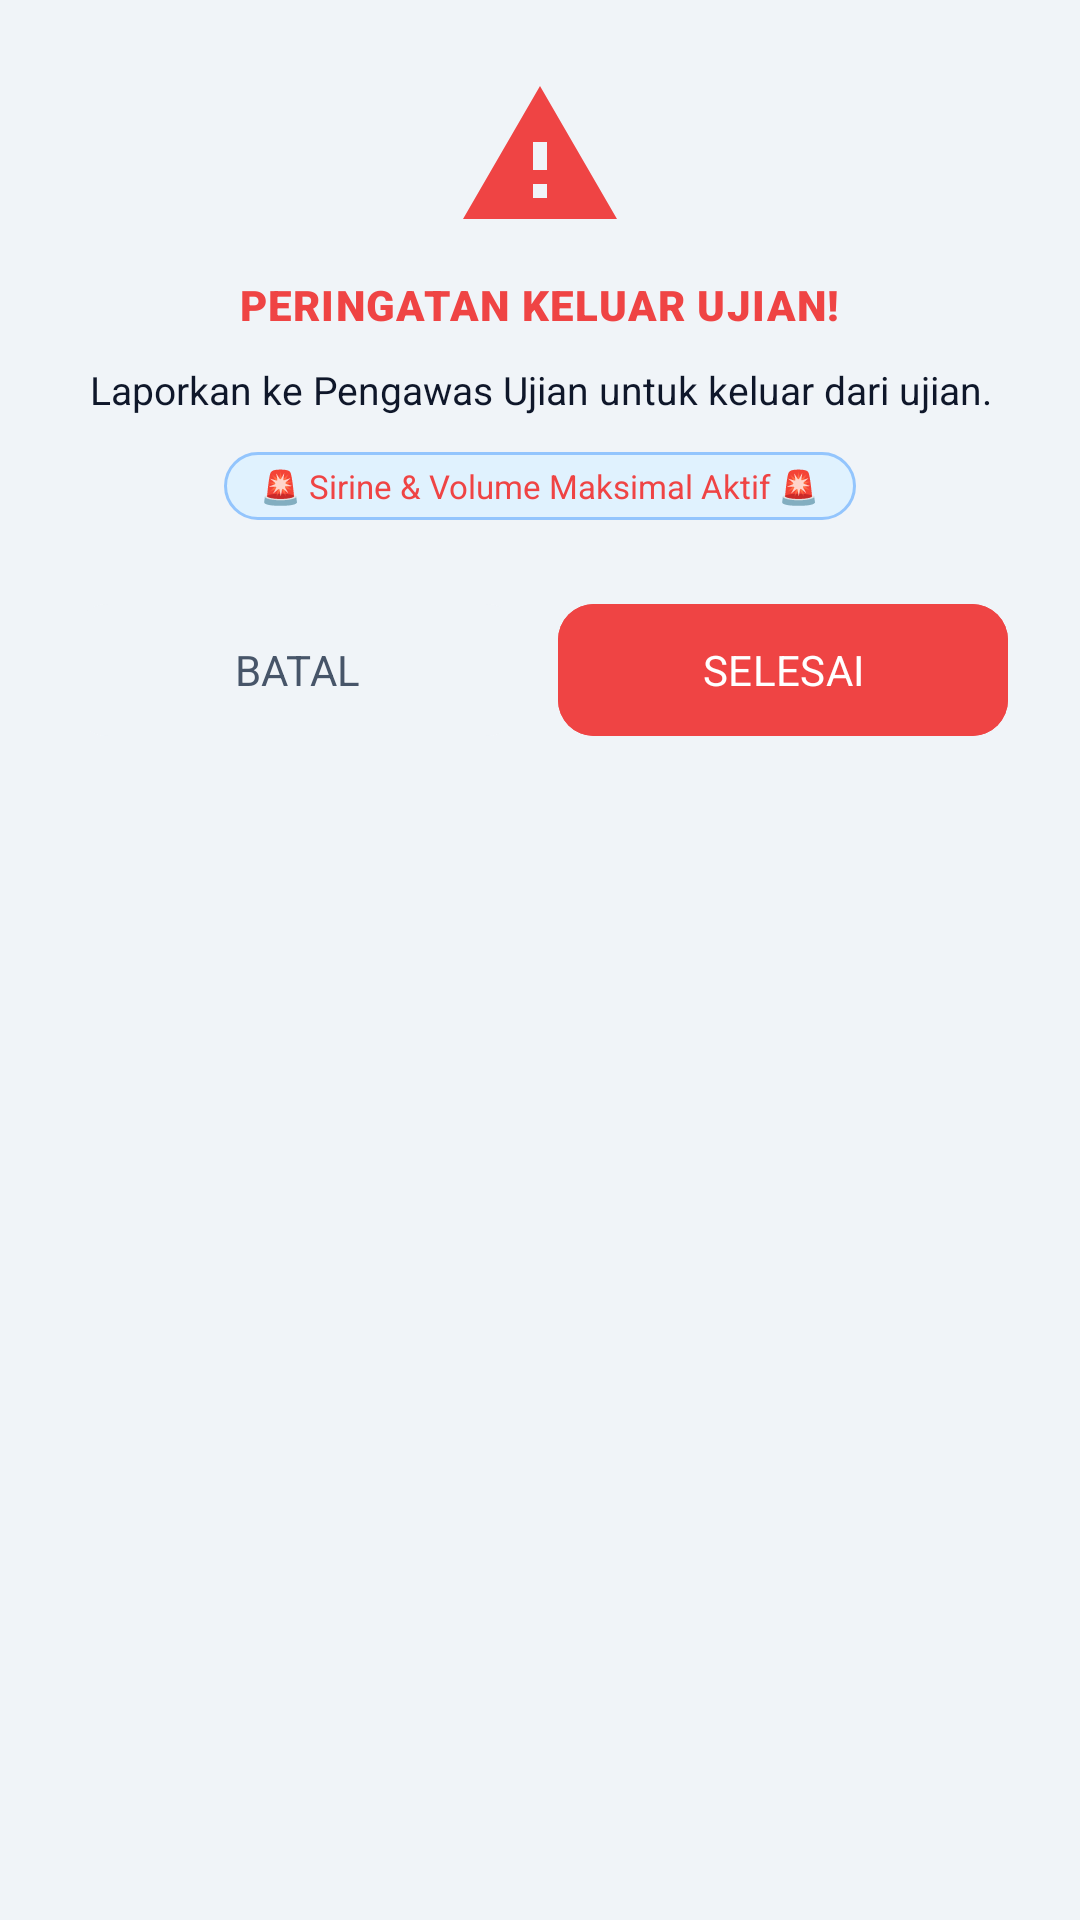

Where icons sit on this 1080px×1920px app screen, as [x1,y1,x2,y2]:
Warning: [463,86,617,219]
